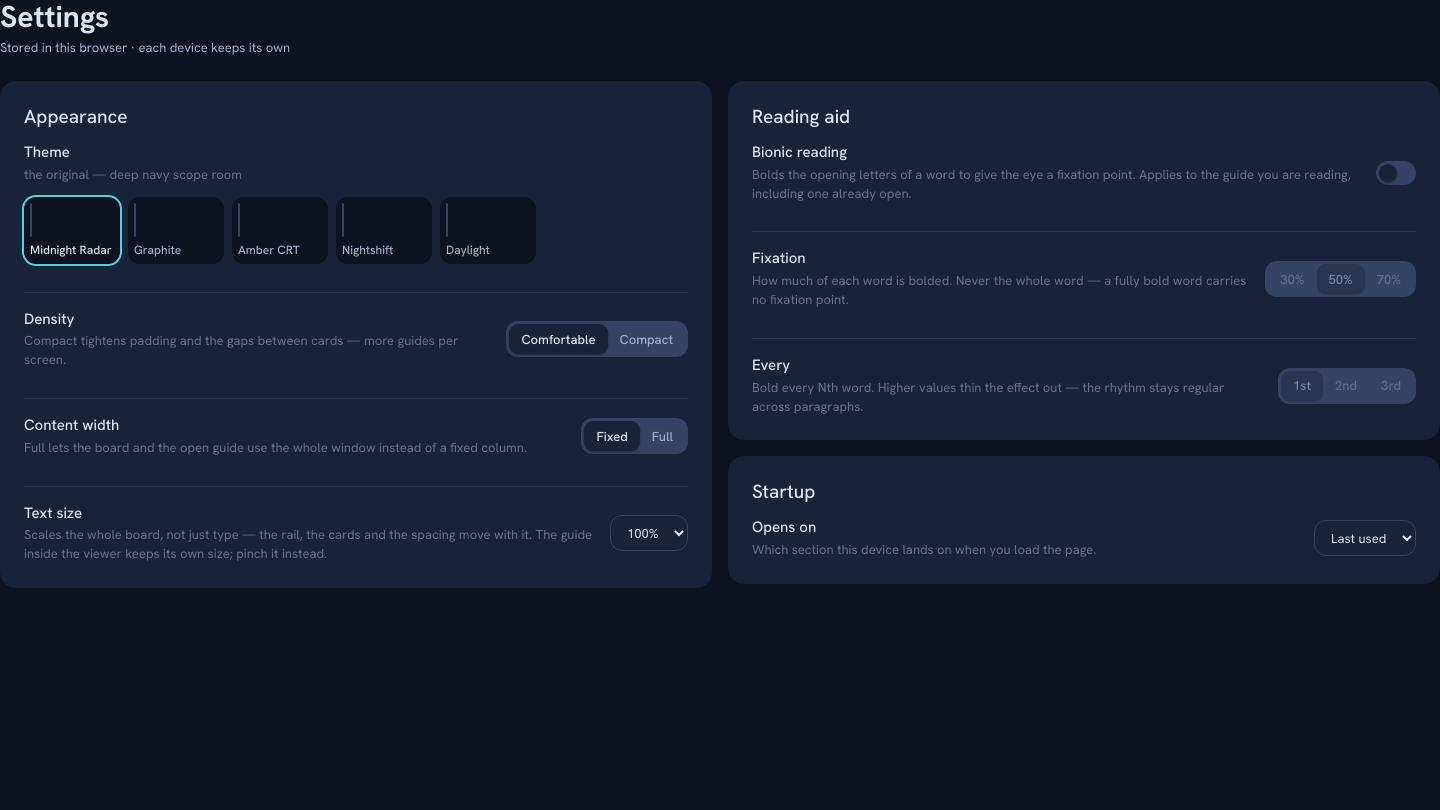
Scenario: SettingsView › presses the picked swatch and shows that theme's hint on the row
Step 1. Click the button "Daylight" → point(488, 230), box [440,197,536,264]
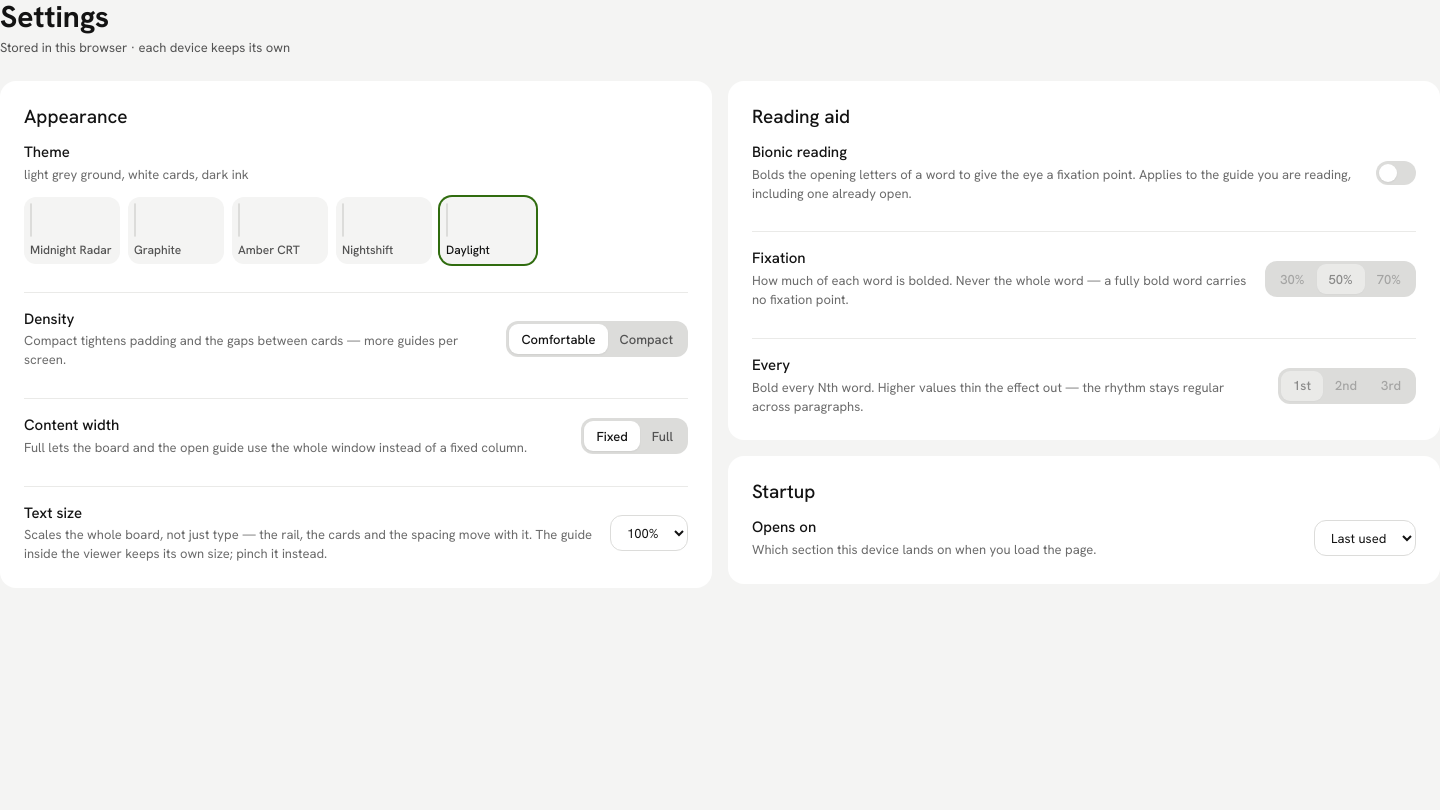
Check: the text "light grey ground, white cards, dark ink" is shown, box [24,166,249,183]
